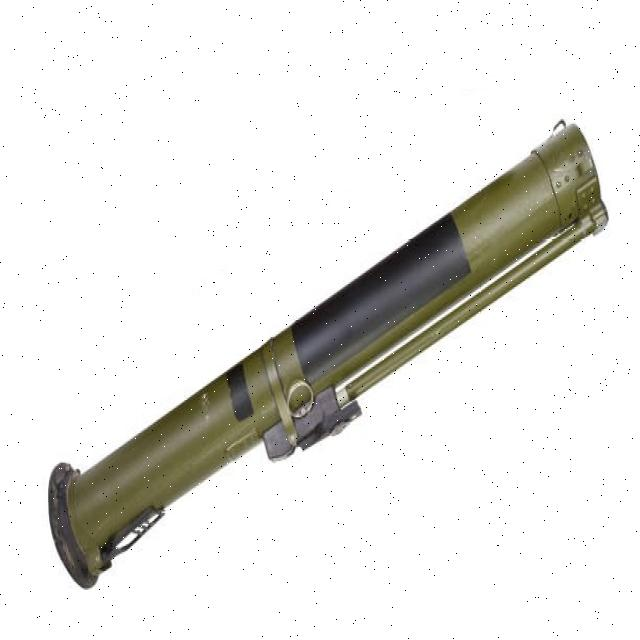bazooka: (41, 106, 614, 598)
